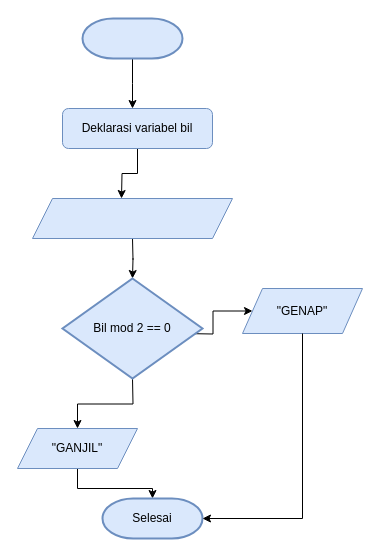
The diagram is 380 pixels wide and 556 high, and some of its shapes have lost their labels. The shapes that lost their labels are listed below. From the top down, each one's centre as x and y in pixels, then its label:
At pixel 132 38: "start".
At pixel 132 218: "Masukkan nilai bil".
